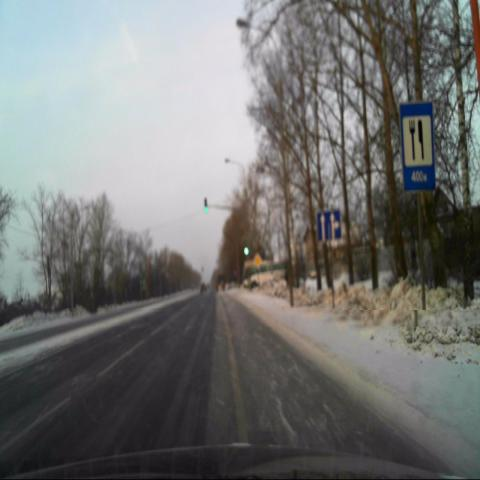7_7: (400, 102, 434, 189)
